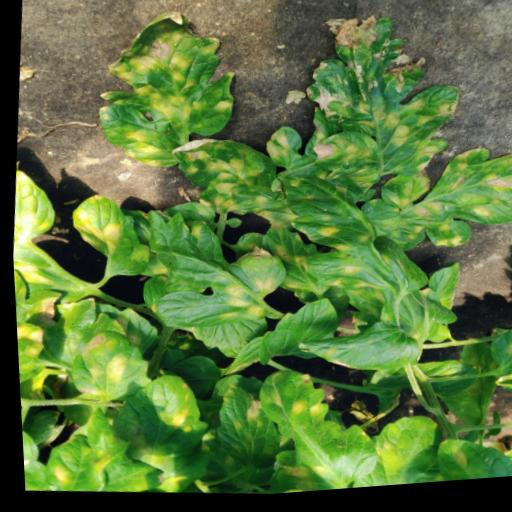Healthy: (342, 414, 448, 493), (425, 439, 512, 488)
Leaf Mold: (293, 10, 469, 193), (255, 166, 436, 338), (86, 2, 243, 178), (107, 200, 291, 343), (245, 366, 380, 499), (370, 143, 512, 268), (99, 369, 211, 502), (30, 400, 166, 502), (168, 134, 280, 226), (289, 317, 418, 384), (63, 190, 154, 282), (62, 327, 153, 408), (205, 383, 280, 477), (304, 132, 386, 207), (355, 200, 401, 246), (261, 128, 303, 175)
